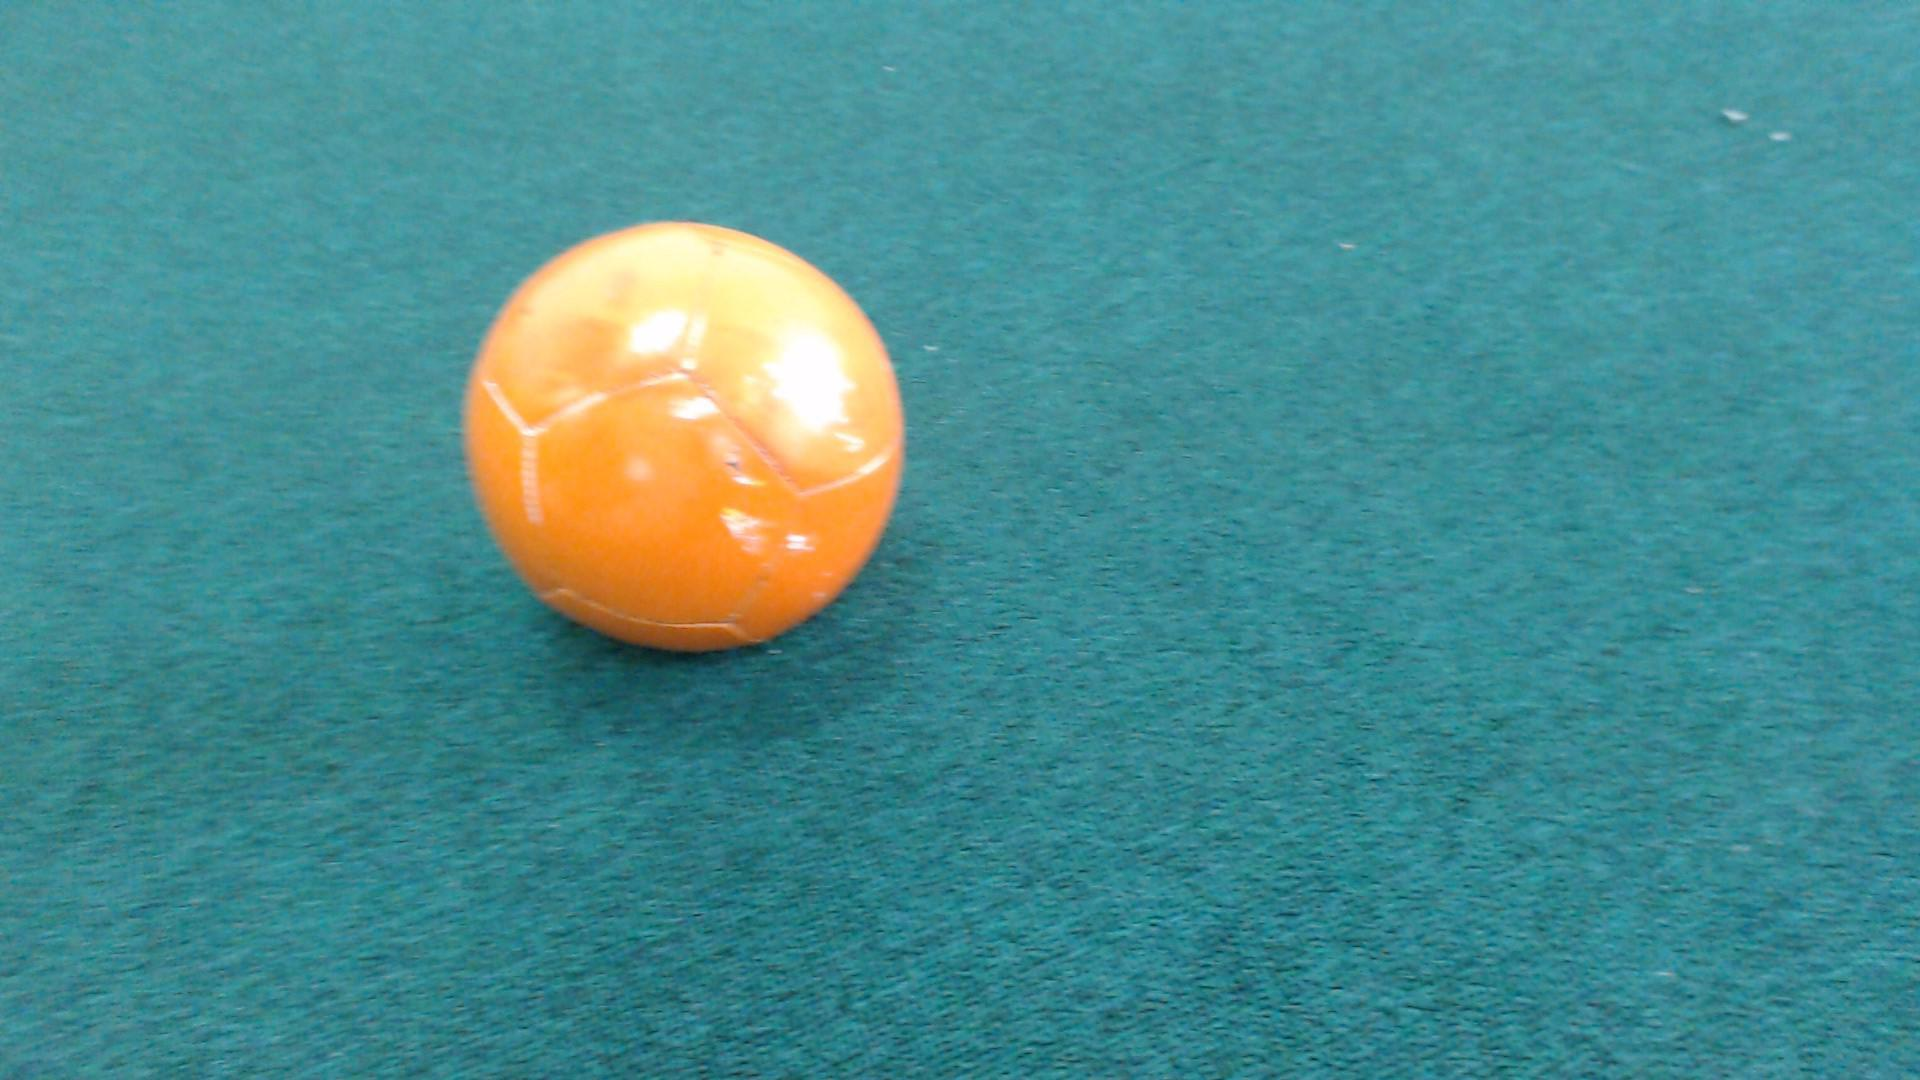bola: (451, 179, 939, 695)
